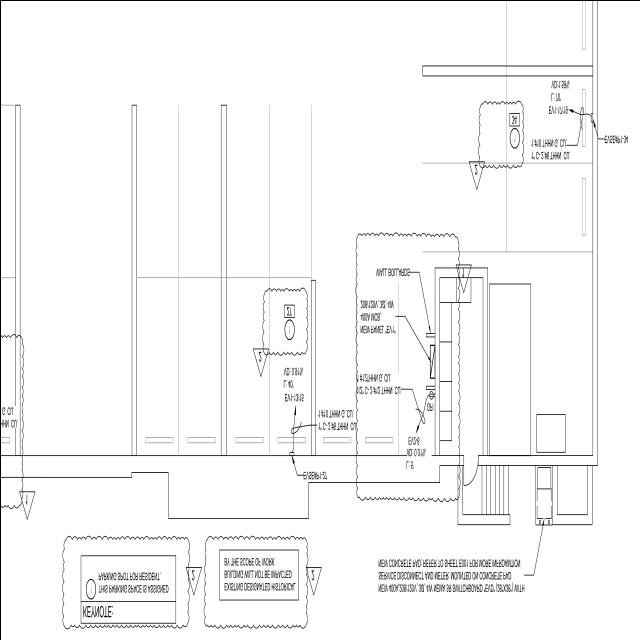gfi: (428, 390, 436, 400)
panel: (426, 340, 436, 382)
